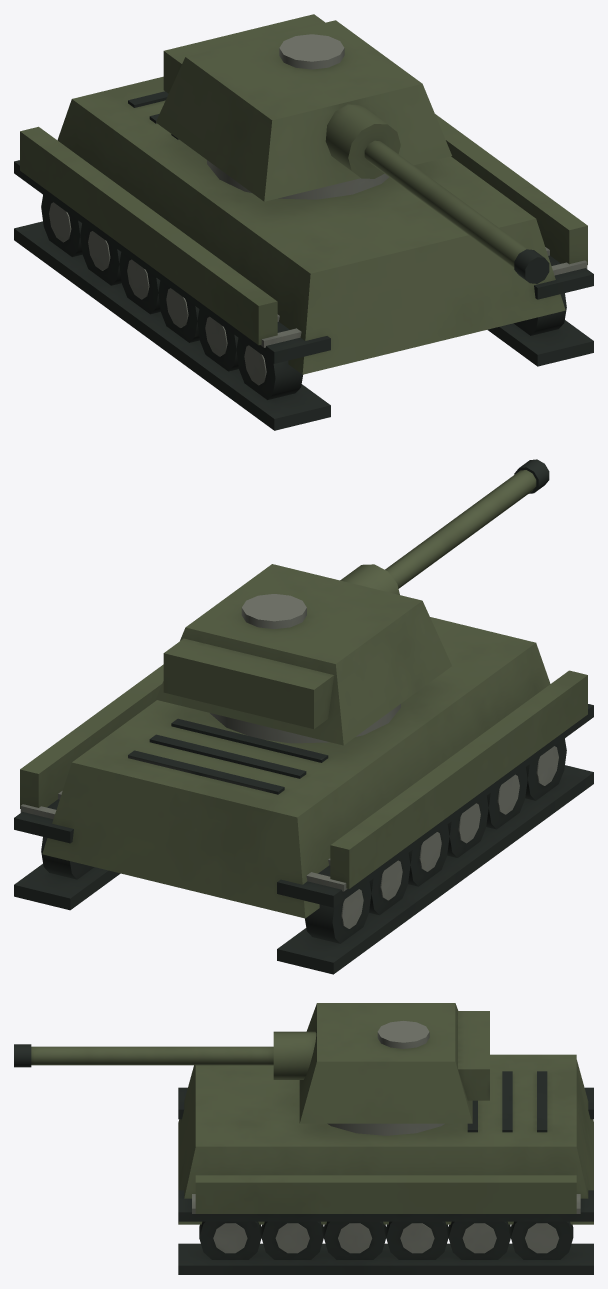
Rendered from military-tank.fbx.
The picture shows the model from 3 angles, top to bottom: view 1: azimuth 30°, elevation 25°; view 2: azimuth 150°, elevation 25°; view 3: azimuth 270°, elevation 25°; orthographic projection. The views are drawn at different scales.
Parts seen in each view (by area): view 1: military-tank; view 2: military-tank; view 3: military-tank.
Boxes of the visible parts, box(x1,y1,x2,y2) form: military-tank: box(14, 14, 593, 430); military-tank: box(14, 459, 593, 974); military-tank: box(14, 1003, 593, 1274).
Size of the model in its own units: 17.52 by 12 by 33.5.
1 material, 1 textured.
